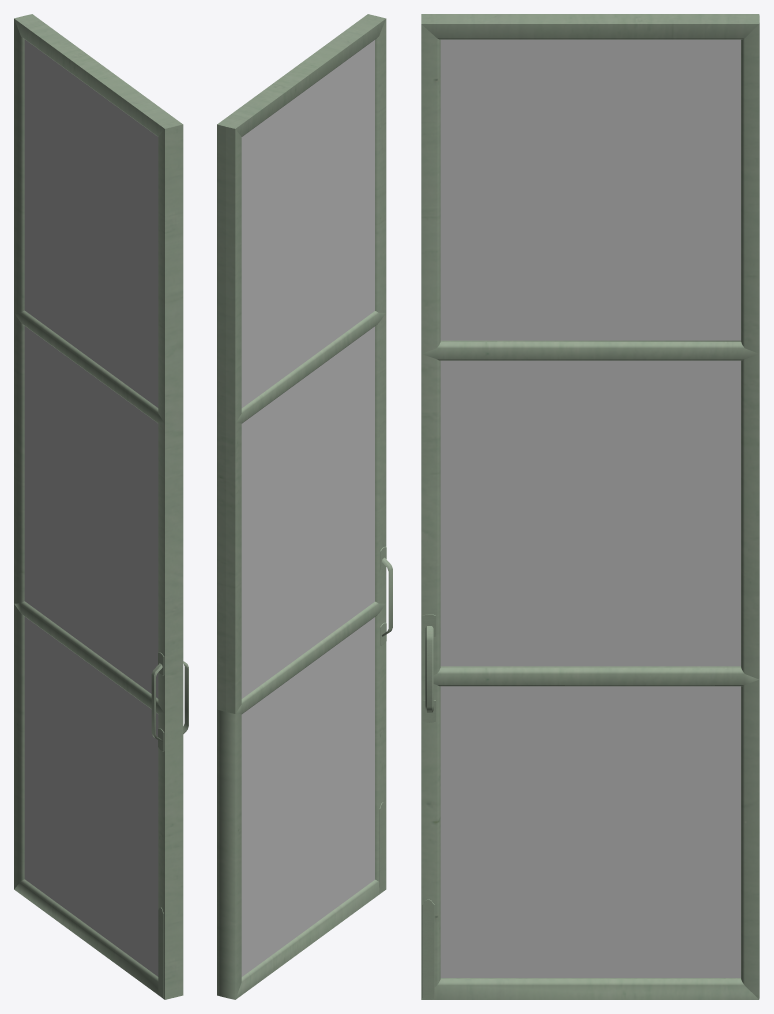
Rendered from SM_WW3_Door_2.fbx.
3 renders of one model, left to right at view 1: azimuth 30°, elevation 25°; view 2: azimuth 150°, elevation 25°; view 3: azimuth 270°, elevation 25°, orthographic. The views are drawn at different scales.
Visible parts, largest first — view 1: SM_WW3_Door_2; view 2: SM_WW3_Door_2; view 3: SM_WW3_Door_2.
Boxes of the visible parts, left/top/right/bottom form: SM_WW3_Door_2: left=14, top=14, right=188, bottom=999; SM_WW3_Door_2: left=217, top=14, right=392, bottom=999; SM_WW3_Door_2: left=421, top=14, right=759, bottom=999.
Bounding box in the file's own units: 6.17 × 45.54 × 145.
2 materials, 1 textured.
